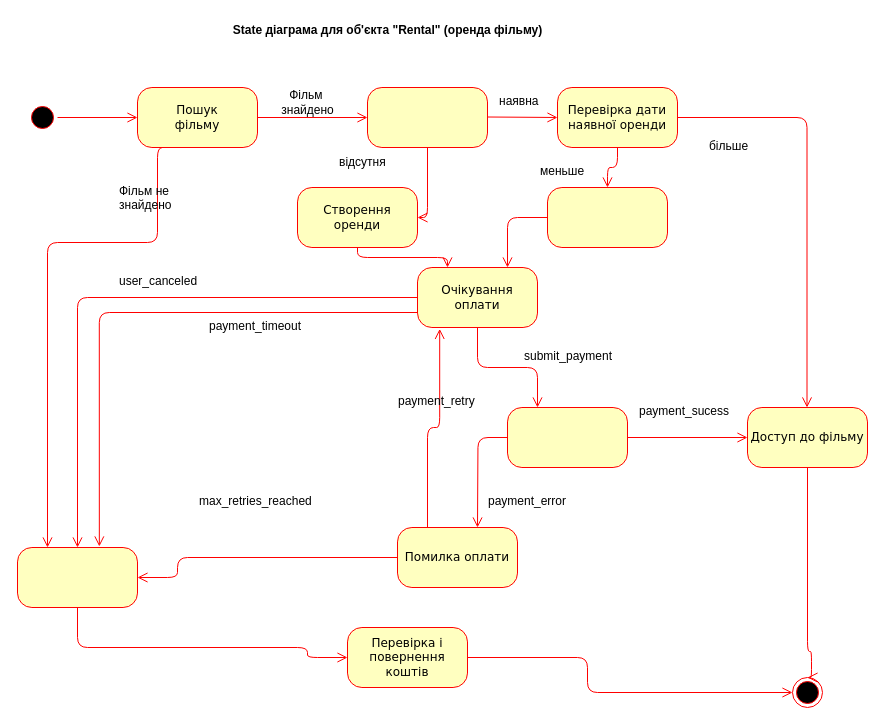
The diagram is 885 pixels wide and 725 high, and some of its shapes have lost their labels. The shapes that lost their labels are listed below. From the top down, each one's centre as x and y in pixels, then its label:
At [427,117]: "Перевірка наявності оренди".
At [607,217]: "Продоження оренди".
At [567,437]: "Обробка оплати".
At [77,577]: "Відмова".
